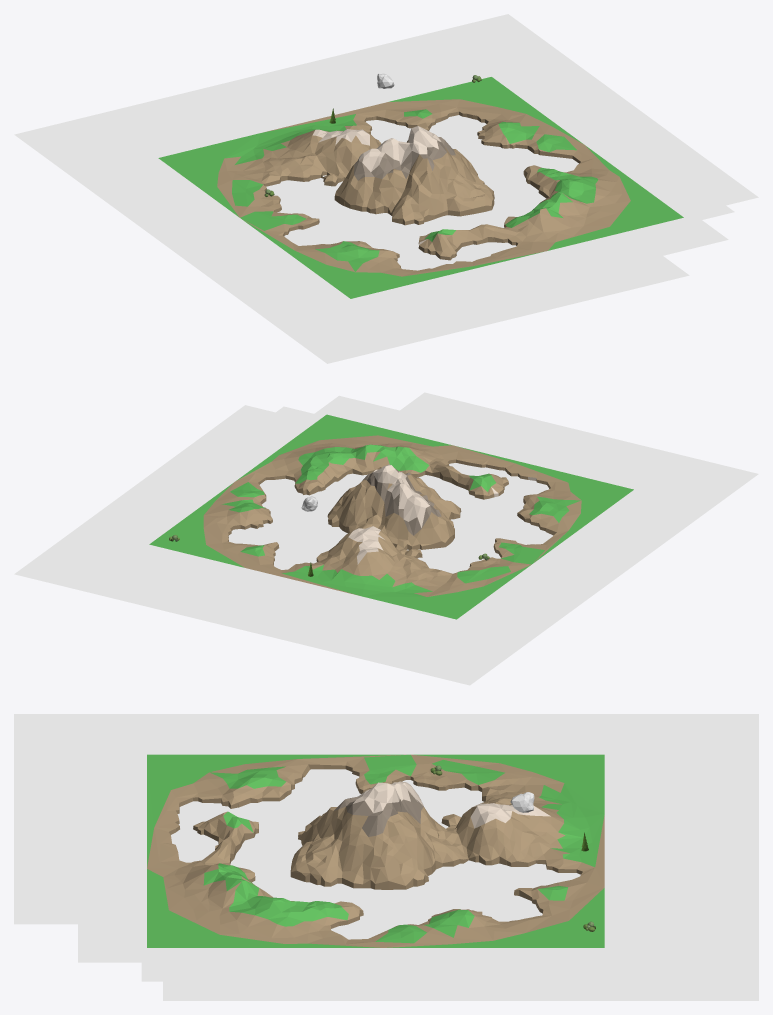
File: decors.glb
The picture shows the model from 3 angles, top to bottom: view 1: azimuth 30°, elevation 25°; view 2: azimuth 150°, elevation 25°; view 3: azimuth 270°, elevation 25°; orthographic projection. The views are drawn at different scales.
Visible parts, largest first — view 1: rivière, Landscape; view 2: rivière, Landscape; view 3: rivière, Landscape.
Boxes of the visible parts, left/top/right/bottom form: rivière: left=14, top=14, right=758, bottom=363; Landscape: left=158, top=77, right=683, bottom=298; rivière: left=14, top=392, right=758, bottom=685; Landscape: left=149, top=414, right=633, bottom=619; rivière: left=14, top=714, right=758, bottom=1000; Landscape: left=147, top=754, right=604, bottom=947.
Size of the model in its own units: 2.96 by 0.6411 by 3.25.
